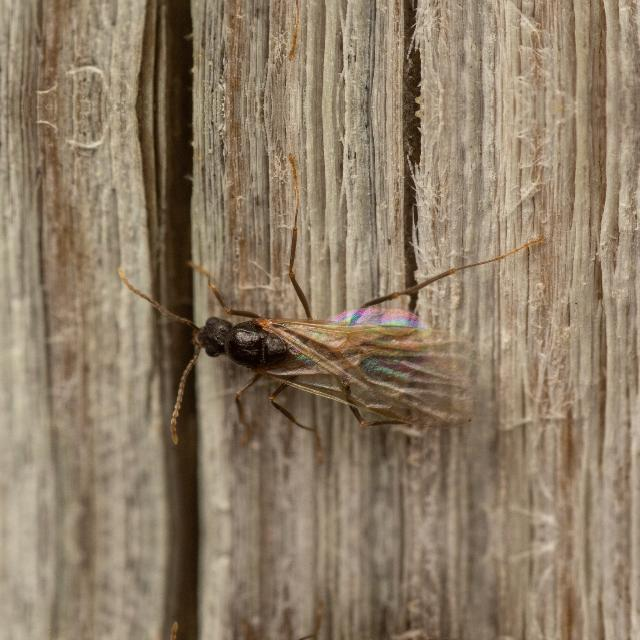Apheanogaster: (142, 270, 486, 438)
